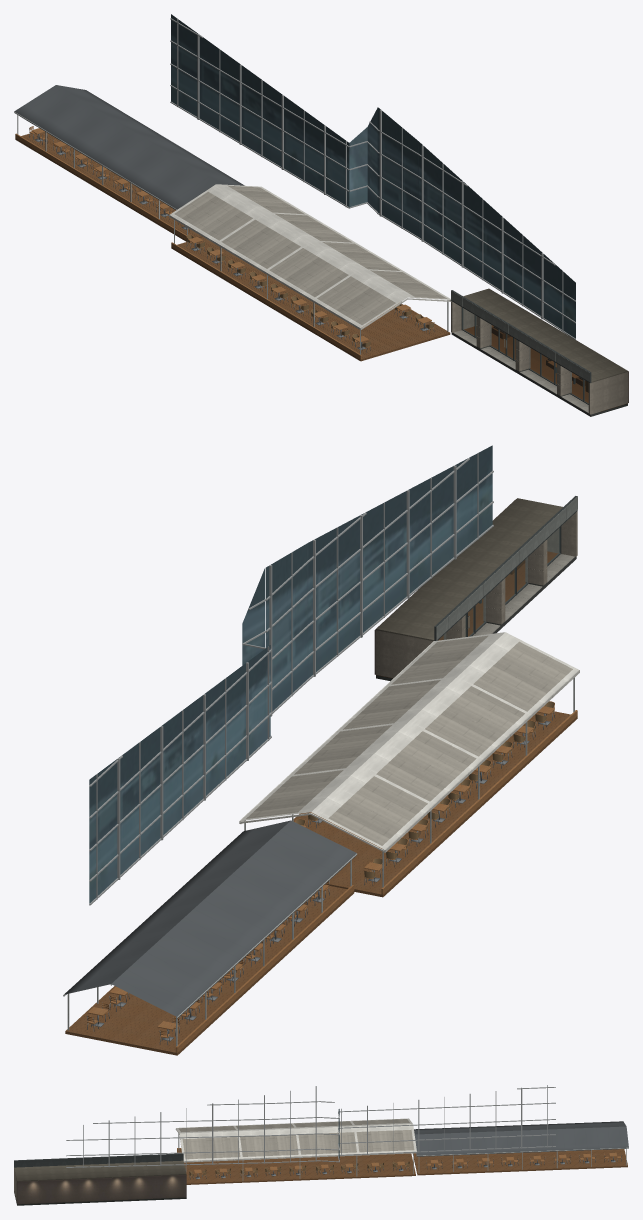
3 views of the same model, one above another, from view 1: azimuth 30°, elevation 25°; view 2: azimuth 150°, elevation 25°; view 3: azimuth 270°, elevation 25° (orthographic). The views are drawn at different scales.
Visible parts, largest first — view 1: One Fullerton laminated glazing, Roof infill, Charcoal, Recessed shop cladding, Deck, Anodised glazing bars, Pale roof trim, Teak, Courtyard entrance glass, Interior timber joinery, Metal, Cane (+3 smaller); view 2: One Fullerton laminated glazing, Charcoal, Roof infill, Recessed shop cladding, Deck, Pale roof trim, Anodised glazing bars, Teak, Metal, Canopy frame, Cane, Courtyard entrance glass (+2 smaller); view 3: Deck, Charcoal, Roof infill, Anodised glazing bars, Recessed shop cladding, Wall washed plaster, Pale roof trim, Teak, Metal, Canopy frame, Cane, Dining tables.
Boxes of the visible parts, x1,y1,x2,y2 form: One Fullerton laminated glazing: (171,14,575,338); Roof infill: (174,185,447,324); Charcoal: (14,85,244,210); Recessed shop cladding: (451,288,627,416); Deck: (15,132,450,361); Anodised glazing bars: (170,18,575,339); Pale roof trim: (169,184,451,330); Teak: (15,126,434,359); Courtyard entrance glass: (463,308,587,402); Interior timber joinery: (464,325,627,411); Metal: (29,128,434,352); Cane: (187,235,434,347); One Fullerton laminated glazing: (89,445,492,903); Charcoal: (63,820,356,1018); Roof infill: (246,635,572,845); Recessed shop cladding: (376,496,577,681); Deck: (65,711,577,1055); Pale roof trim: (239,632,579,852); Anodised glazing bars: (89,453,493,905); Teak: (87,701,577,1052); Metal: (86,712,554,1044); Canopy frame: (63,677,574,1046); Cane: (295,701,554,878); Courtyard entrance glass: (439,528,559,639); Deck: (177,1149,627,1184); Charcoal: (414,1121,628,1156); Roof infill: (178,1119,414,1159); Anodised glazing bars: (66,1085,555,1167); Recessed shop cladding: (14,1153,186,1205); Wall washed plaster: (17,1174,186,1204); Pale roof trim: (175,1118,416,1162); Teak: (177,1148,621,1175); Metal: (189,1155,621,1179); Canopy frame: (178,1133,628,1180); Cane: (189,1162,409,1175); Dining tables: (194,1161,404,1173).
Size of the model in its own units: 15.68 by 12.06 by 62.42.
18 materials, 12 textured.
